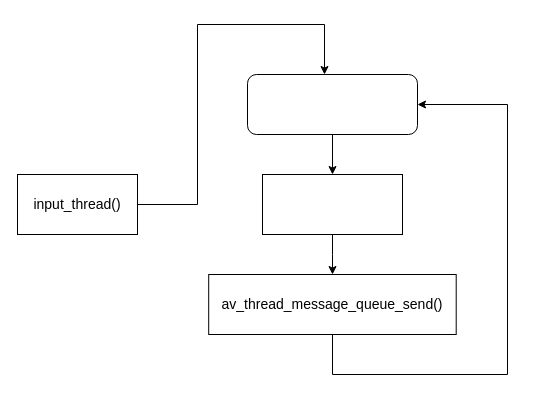
Image size: 533x400. Some labels were removed from this diagram. Here are the shapes that lost their labels. From the top down, the centre of each, then its label:
At point (332, 104): "while (1) {...}".
At point (332, 204): "av_read_frame()".
